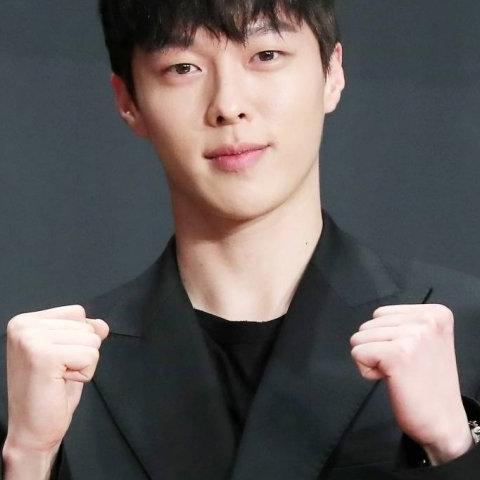opened: (130, 21, 312, 91)
